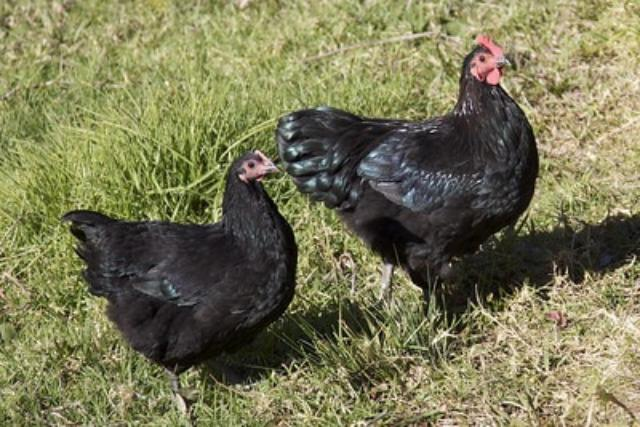Chicken: (277, 36, 538, 305), (62, 150, 300, 404)
